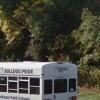buses: (0, 59, 78, 100)
